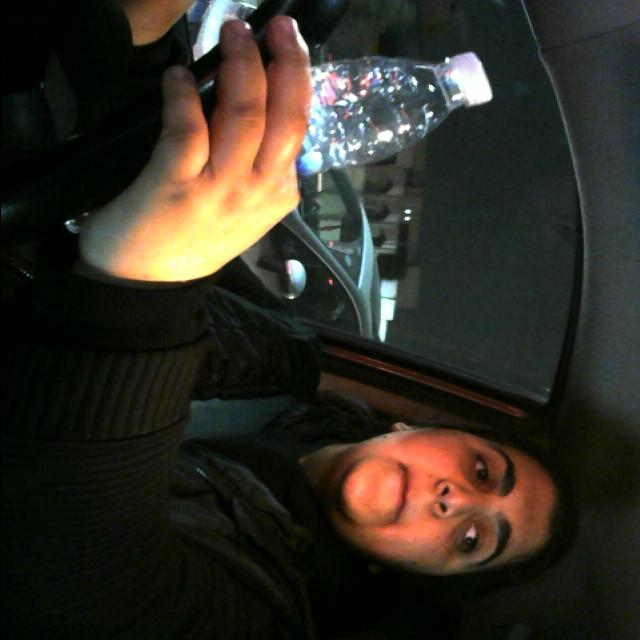drinking: (54, 41, 497, 232)
